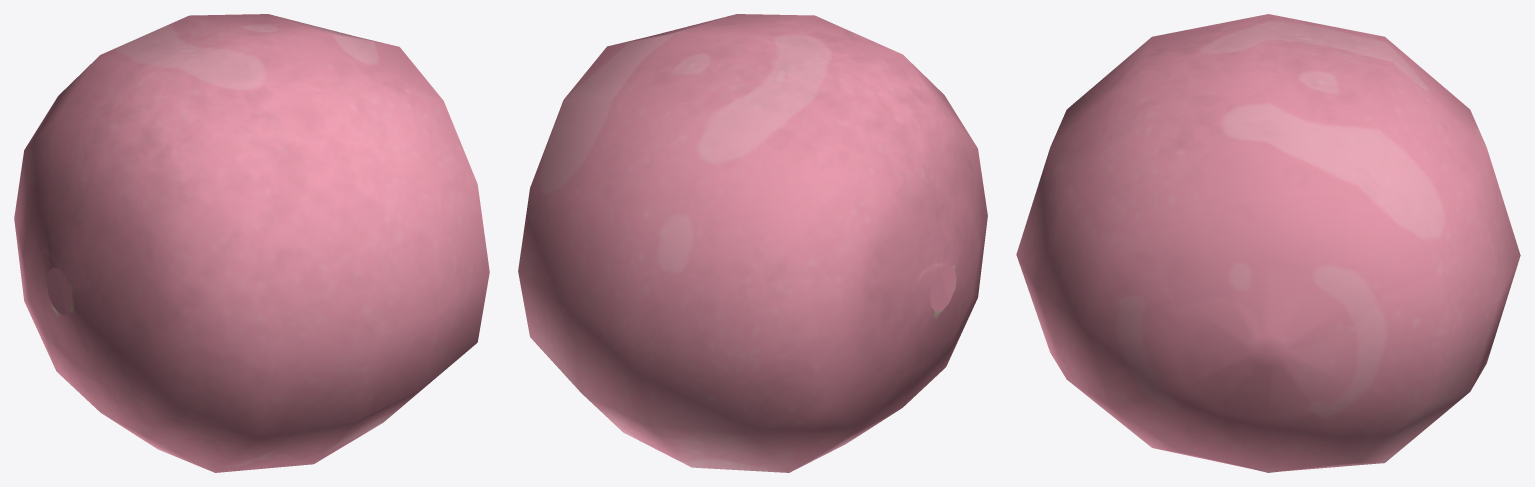
The model's file is Model_SansyokuDango_01.fbx.
The picture shows the model from 3 angles, left to right: view 1: azimuth 30°, elevation 25°; view 2: azimuth 150°, elevation 25°; view 3: azimuth 270°, elevation 25°; orthographic projection. The views are drawn at different scales.
Visible parts, largest first — view 1: polySurface2; view 2: polySurface2; view 3: polySurface2.
Boxes of the visible parts, bbox=[...] form: polySurface2: bbox=[14, 14, 489, 472]; polySurface2: bbox=[518, 14, 987, 472]; polySurface2: bbox=[1016, 14, 1520, 472].
Size of the model in its own units: 180 by 178 by 200.
